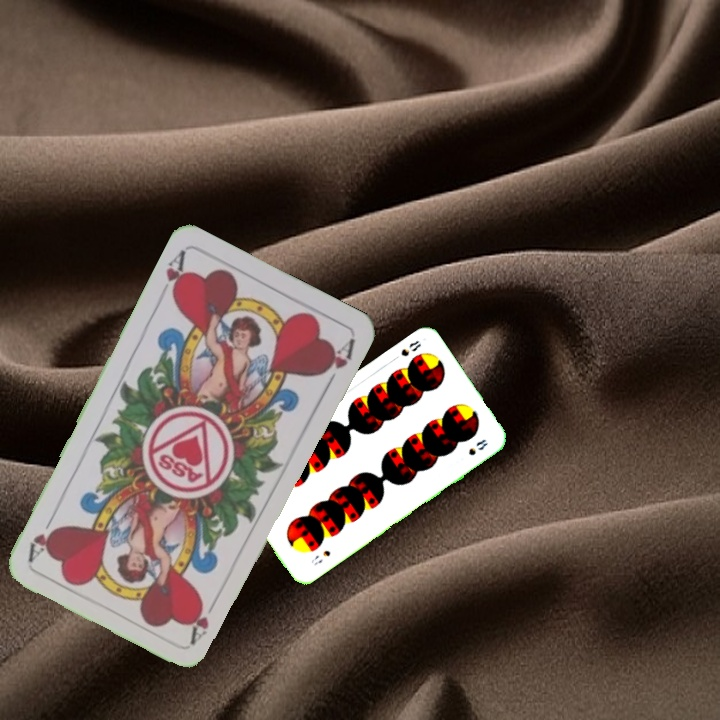HA: (155, 246, 190, 304), (186, 591, 222, 646)
S8: (388, 336, 424, 364), (307, 546, 333, 568)
